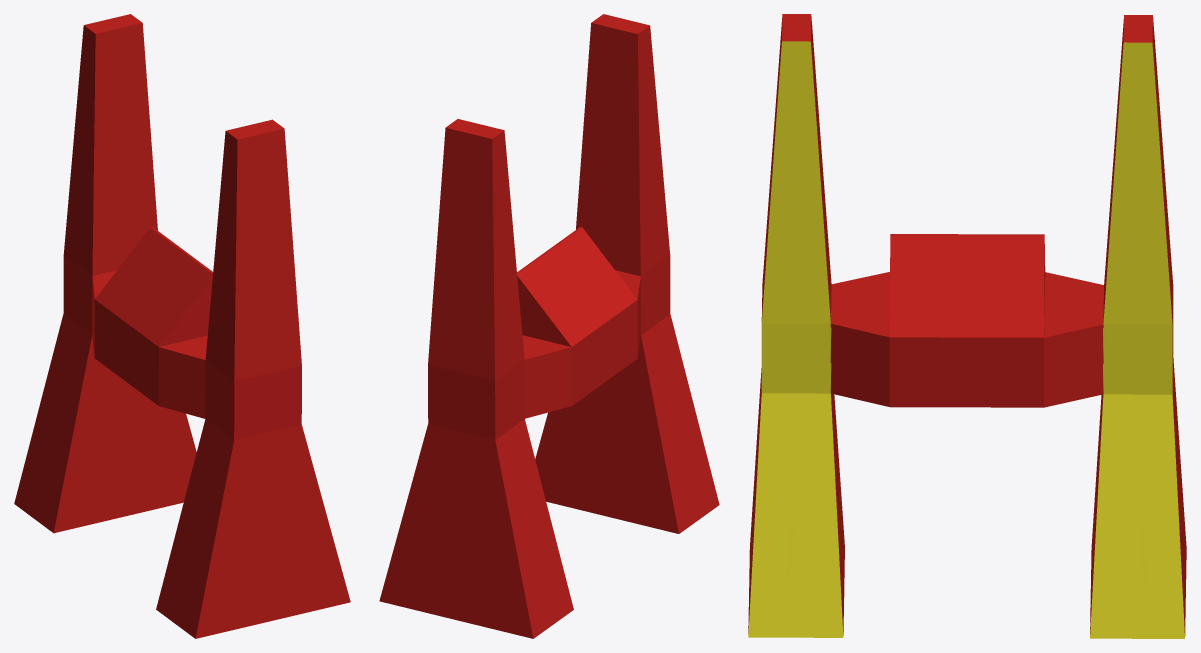
The model's file is RedShip31.fbx.
The picture shows the model from 3 angles, left to right: view 1: azimuth 30°, elevation 25°; view 2: azimuth 150°, elevation 25°; view 3: azimuth 270°, elevation 25°; orthographic projection. The views are drawn at different scales.
Parts seen in each view (by area): view 1: Cube; view 2: Cube; view 3: Cube.
Part boxes in pixels (bbox=[...]): Cube: bbox=[14, 14, 350, 638]; Cube: bbox=[379, 14, 719, 638]; Cube: bbox=[748, 14, 1186, 638].
Bounding box in the file's own units: 279 × 809 × 568.
Materials: 1 (1 with a texture image).
